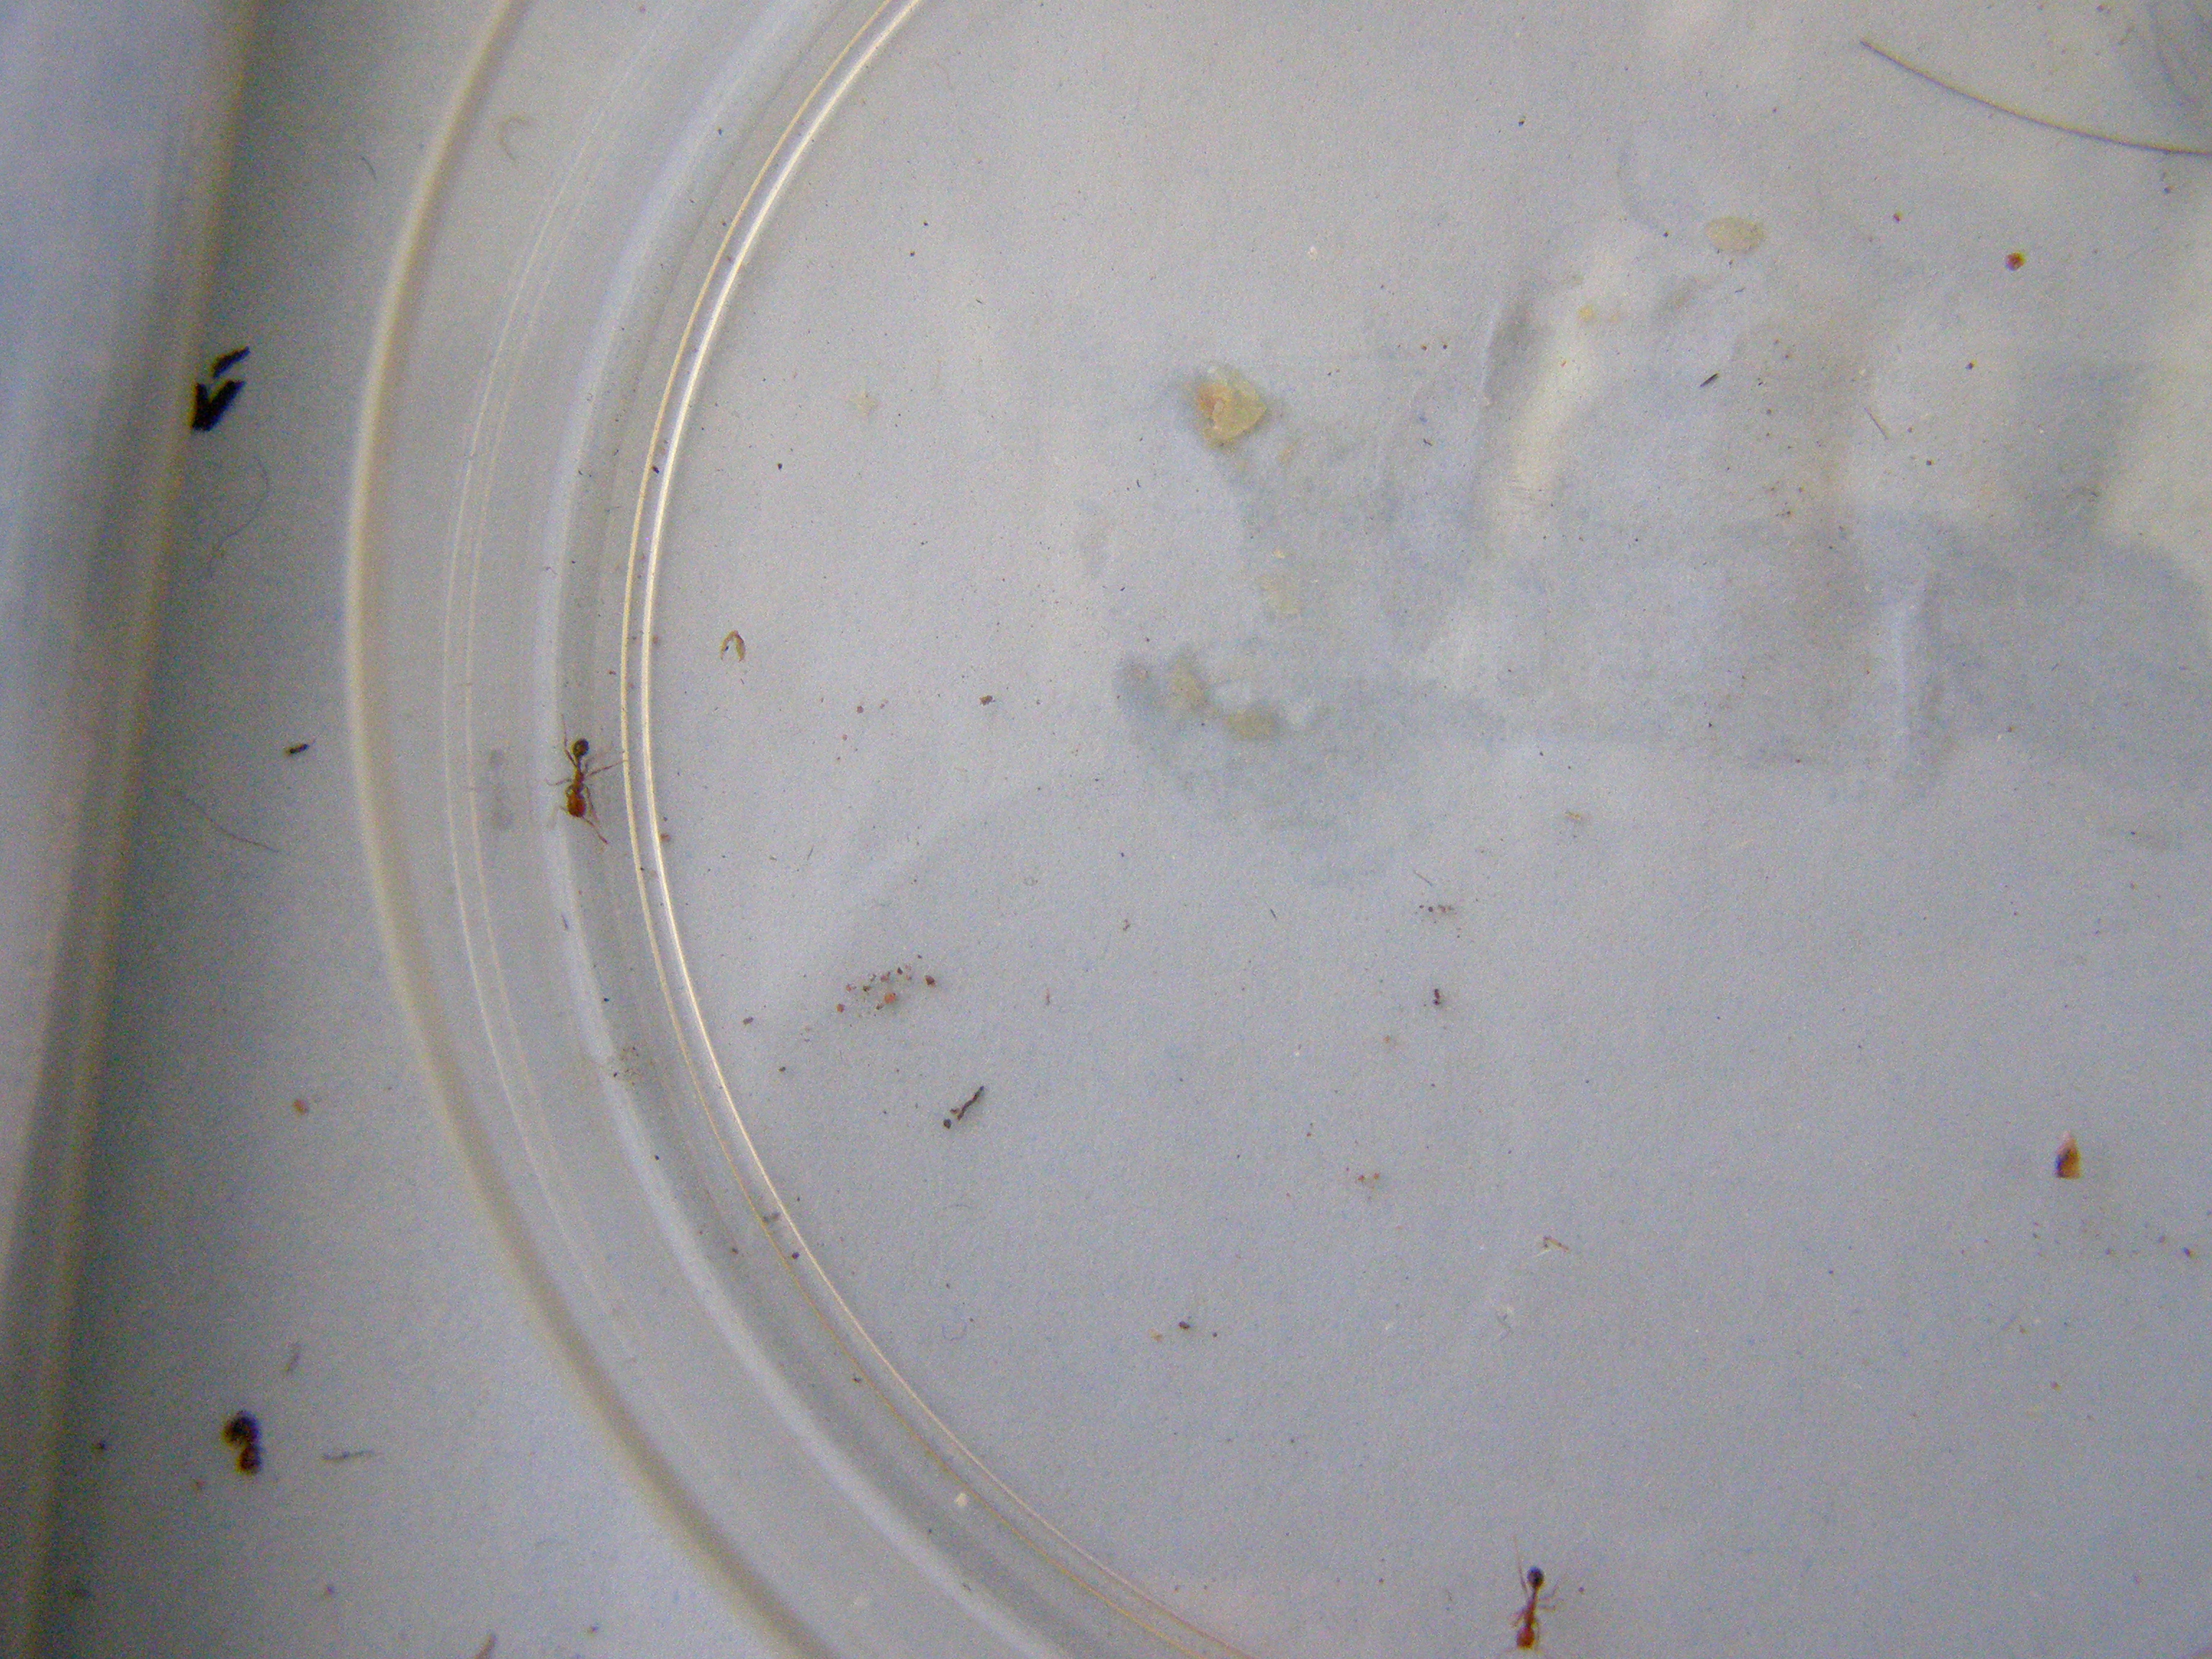Solenopsis_geminata: (197, 1382, 294, 1516)
